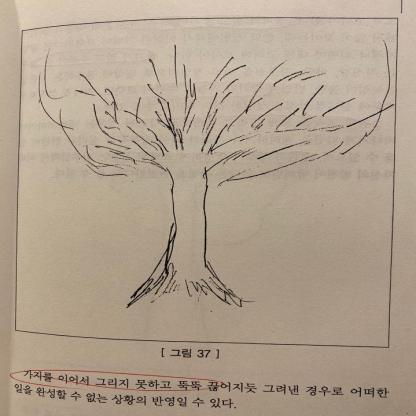crown_mushroom: (37, 43, 388, 192)
trunk_straight: (163, 186, 215, 271)
